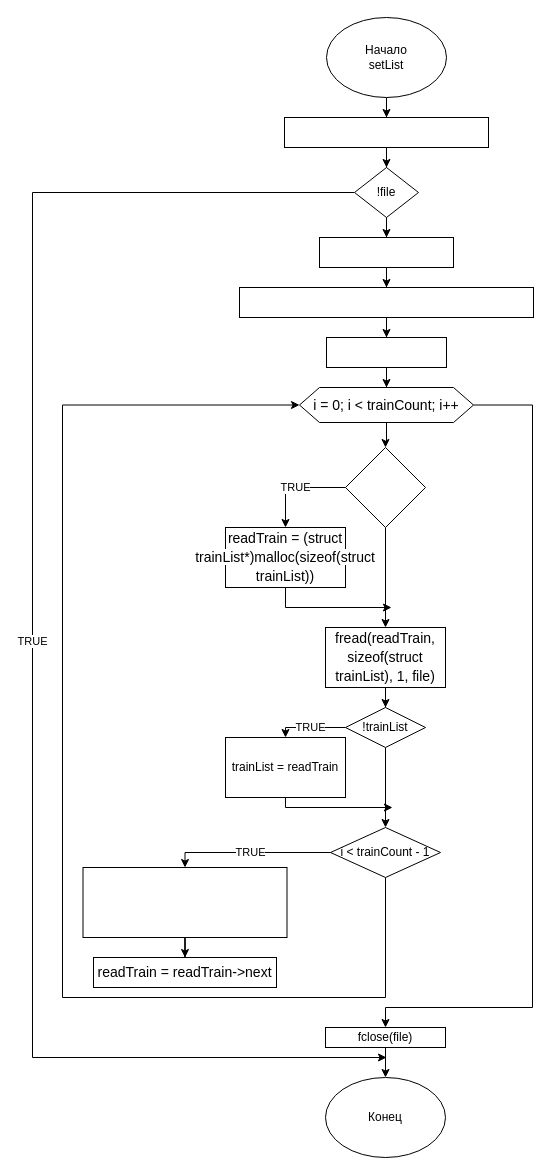
Some shapes in this 558 by 1175 pixel diagram are drawn without their labels. Each missing label, with the box of its shape:
!feadTrain: (344, 446, 426, 528)
file = fopen("trainData.dat", "rb"): (284, 116, 488, 148)
fseek(file, 0, 2): (318, 236, 454, 268)
int trainCount = ftell(file)/sizeof(struct trainList): (238, 286, 534, 318)
readTrain->next = (struct trainList*)malloc(sizeof(struct trainList)): (82, 866, 287, 938)
rewind(file): (326, 336, 446, 368)
